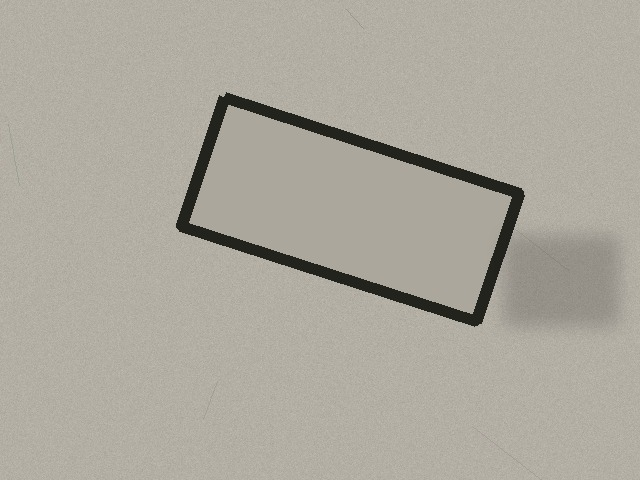parking_area: (181, 97, 519, 321)
